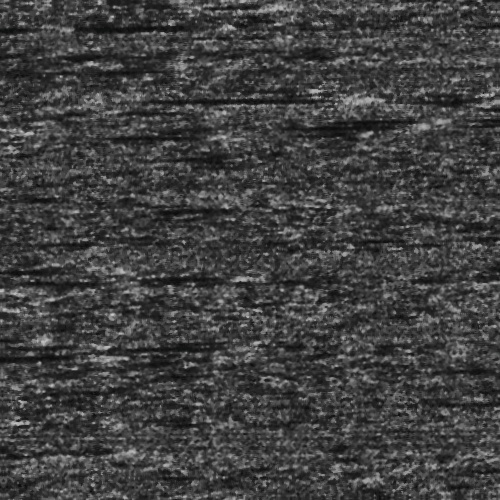object: (0, 116, 64, 133), (409, 113, 472, 130), (398, 119, 461, 134), (306, 95, 389, 102), (51, 15, 82, 32), (57, 262, 130, 269), (181, 21, 244, 26), (186, 131, 249, 136), (235, 271, 276, 278), (61, 337, 92, 346), (0, 299, 22, 308), (235, 343, 276, 346), (0, 414, 16, 421), (83, 351, 114, 354), (126, 277, 147, 280)
shadow: (326, 113, 440, 130), (314, 119, 429, 134), (167, 95, 347, 102), (0, 15, 66, 32), (162, 271, 256, 278), (0, 262, 93, 269), (82, 21, 212, 26), (9, 337, 76, 346), (119, 131, 217, 136), (135, 343, 255, 346), (36, 277, 136, 280), (0, 351, 98, 354), (451, 101, 500, 104)
